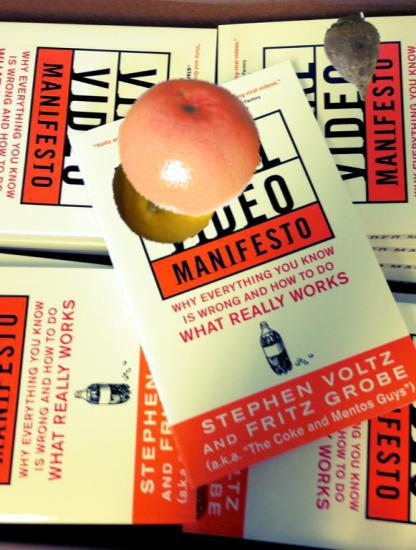Beetroot: (311, 13, 401, 103)
Grapefruit: (117, 74, 263, 220), (110, 134, 221, 245)
